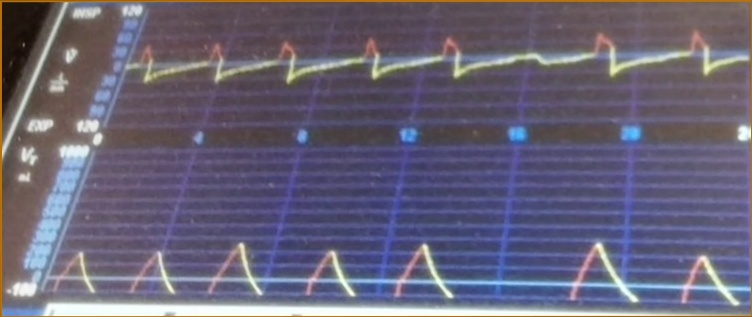Ineffective_effort Flow: (130, 29, 748, 118)
Ineffective_effort Volume: (54, 234, 740, 306)
